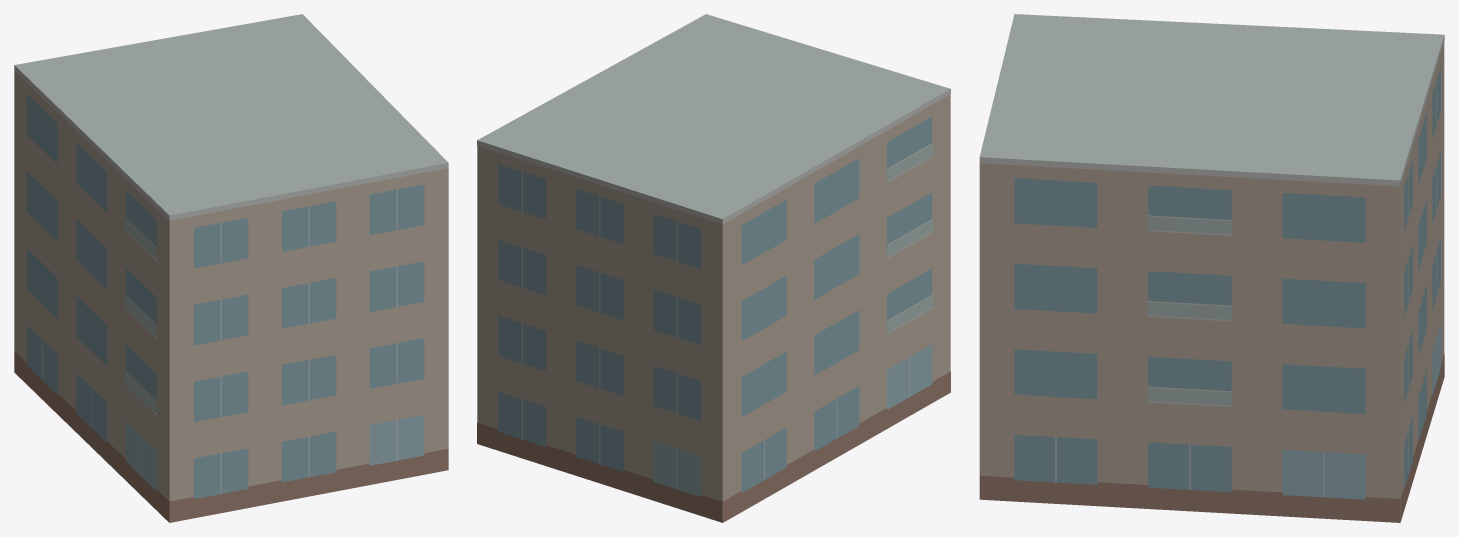
The model's file is survey-upis-32903281.glb.
The picture shows the model from 3 angles, left to right: view 1: azimuth 30°, elevation 25°; view 2: azimuth 150°, elevation 25°; view 3: azimuth 270°, elevation 25°; orthographic projection. The views are drawn at different scales.
Visible parts, largest first — view 1: survey-upis-32903281.tmp; view 2: survey-upis-32903281.tmp; view 3: survey-upis-32903281.tmp.
Part boxes in pixels (x1,y1,x2,y2): survey-upis-32903281.tmp: [14, 14, 448, 522]; survey-upis-32903281.tmp: [477, 14, 950, 522]; survey-upis-32903281.tmp: [979, 14, 1444, 522].
Size of the model in its own units: 14.71 by 14.1 by 17.36.
